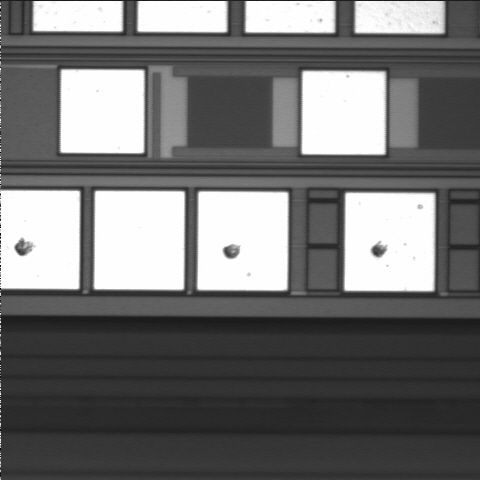pad: (197, 192, 288, 290), (94, 191, 184, 290), (345, 193, 435, 291), (61, 70, 144, 153), (302, 71, 385, 154)
